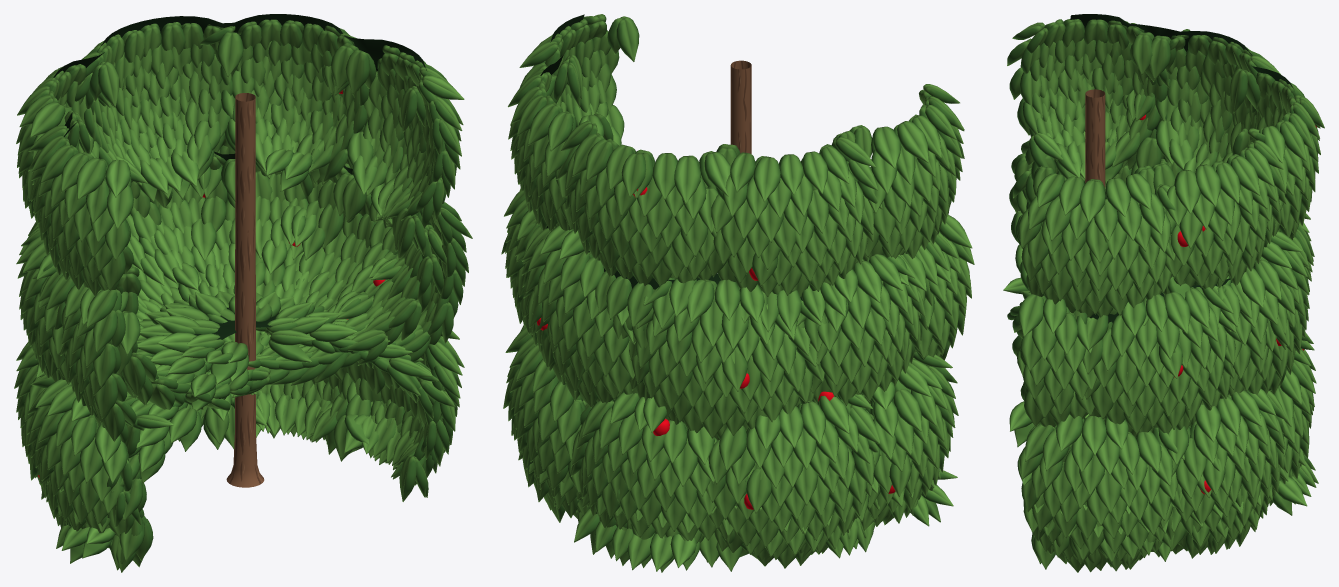
The model's file is treecolumn.glb.
The picture shows the model from 3 angles, left to right: view 1: azimuth 30°, elevation 25°; view 2: azimuth 150°, elevation 25°; view 3: azimuth 270°, elevation 25°; orthographic projection. The views are drawn at different scales.
Parts seen in each view (by area): view 1: column_tile, column_front_tile, column_base, column_front_top, column_top, column_front_base; view 2: column_front_tile, column_tile, column_front_top, column_front_base, column_top; view 3: column_front_tile, column_tile, column_front_top, column_front_base, column_base, column_top.
Part boxes in pixels (<box>): column_tile: <box>49,14,456,525</box>; column_front_tile: <box>14,19,472,570</box>; column_base: <box>64,151,432,487</box>; column_front_top: <box>39,291,455,572</box>; column_top: <box>70,307,436,567</box>; column_front_base: <box>19,154,446,410</box>; column_front_tile: <box>501,14,974,565</box>; column_tile: <box>538,14,934,452</box>; column_front_top: <box>518,400,957,571</box>; column_front_base: <box>515,218,957,352</box>; column_top: <box>590,498,940,572</box>; column_front_tile: <box>1007,19,1324,570</box>; column_tile: <box>1003,14,1295,463</box>; column_front_top: <box>1007,290,1318,572</box>; column_front_base: <box>1013,156,1314,352</box>; column_base: <box>1017,160,1289,323</box>; column_top: <box>1012,315,1295,557</box>.
Size of the model in its own units: 27.1 by 27.04 by 19.47.
Materials: 4 (1 with a texture image).
